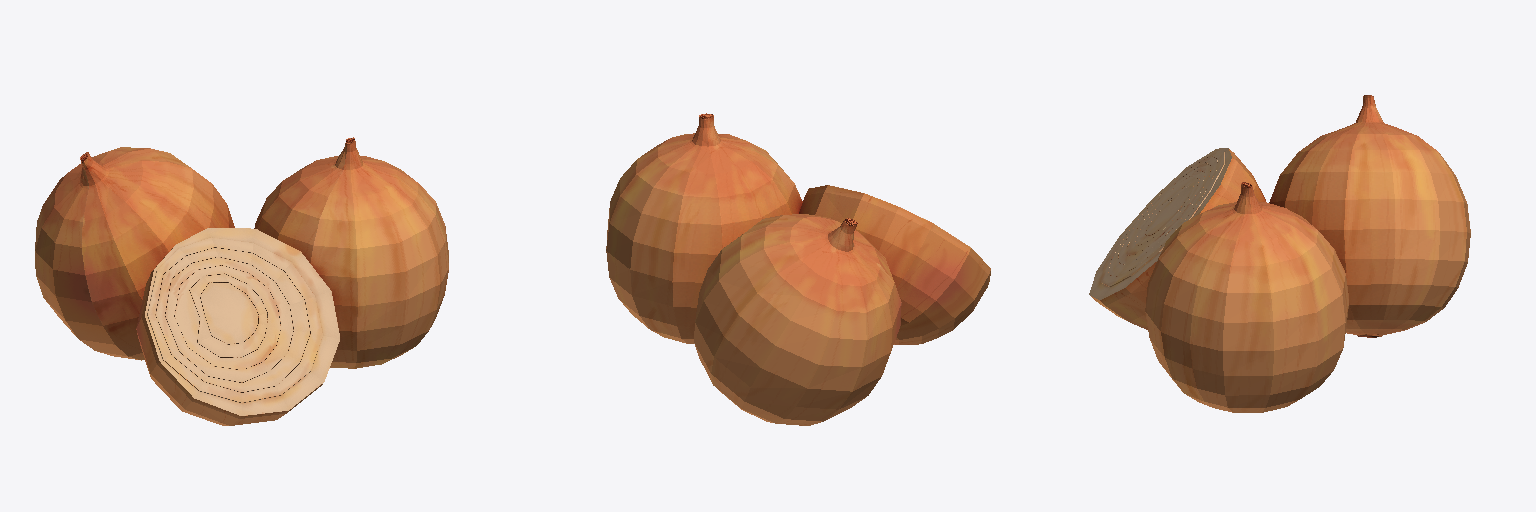
The picture shows the model from 3 angles: view 1: azimuth 30°, elevation 25°; view 2: azimuth 150°, elevation 25°; view 3: azimuth 270°, elevation 25°; orthographic projection.
Parts seen in each view (by area): view 1: onion_Mesh; view 2: onion_Mesh; view 3: onion_Mesh.
Boxes of the visible parts, <box> form: onion_Mesh: <box>35,137,448,425</box>; onion_Mesh: <box>606,113,990,425</box>; onion_Mesh: <box>1089,95,1470,412</box>.
Size of the model in its own units: 0.8291 by 0.5318 by 0.8361.
1 materials, 1 textured.